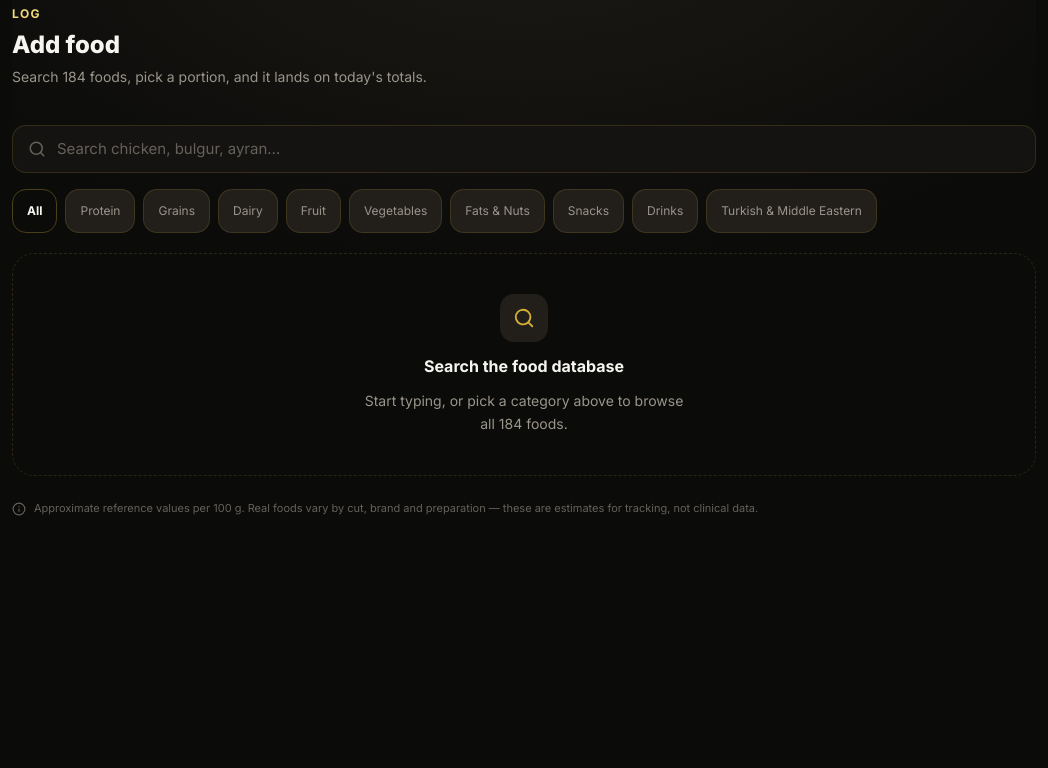
Scenario: LogScreen — search › finds foods as you type
Type "chicken" into the search field named "search foods" at (524, 149), box [12,125,1036,173]
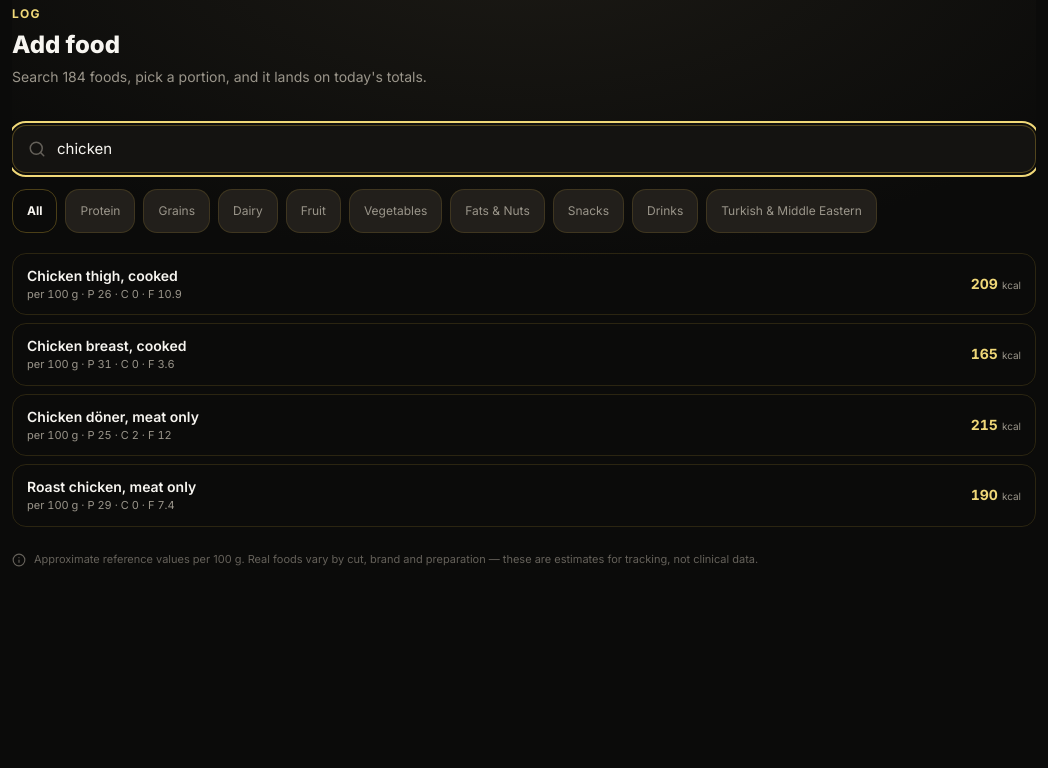
Check: the button "Chicken" is shown, box [12,253,1036,315]
